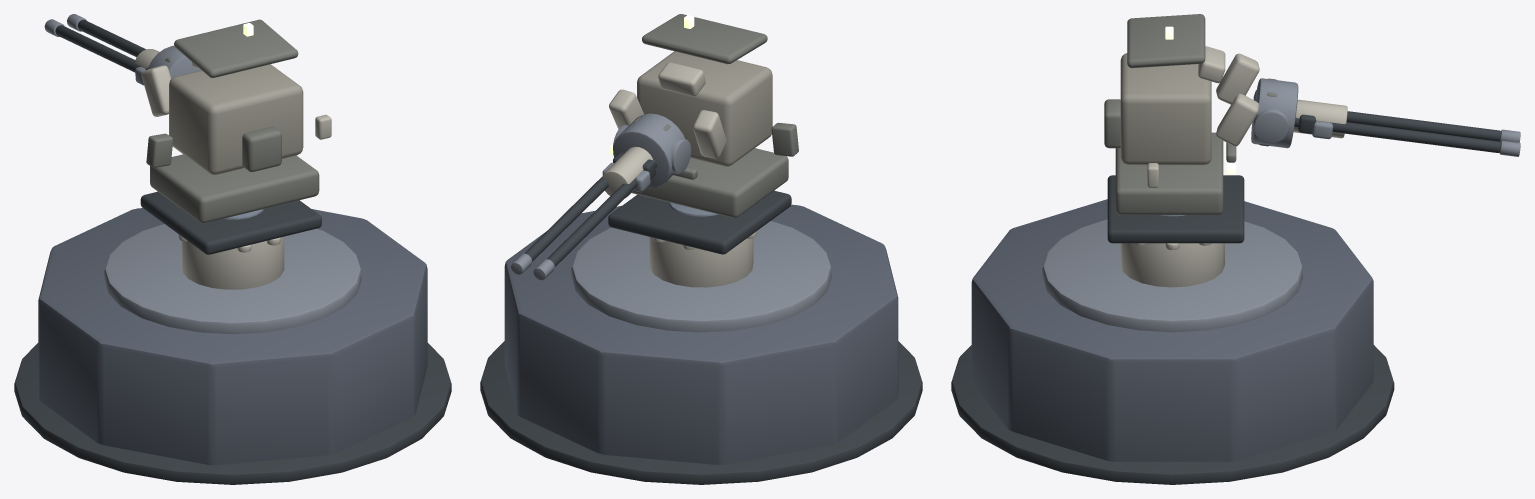
The model's file is mg7_lvl2.glb.
3 renders of one model, left to right at view 1: azimuth 30°, elevation 25°; view 2: azimuth 150°, elevation 25°; view 3: azimuth 270°, elevation 25°, orthographic.
Parts seen in each view (by area): view 1: pedestal_skirt, pedestal_ring, pedestal_lower_ring, hull_main, hull_lower, turret_deck, roof, pedestal_collar, rear_box, front_cheek_left, barrel_01, mantlet (+2 smaller); view 2: pedestal_skirt, pedestal_ring, pedestal_lower_ring, hull_main, turret_deck, hull_lower, pedestal_collar, roof, mantlet, barrel_01, barrel_02, recoil_sleeve (+5 smaller); view 3: pedestal_skirt, pedestal_ring, pedestal_lower_ring, hull_main, hull_lower, turret_deck, pedestal_collar, roof, barrel_02, barrel_01, mantlet, front_cheek_right (+5 smaller).
Boxes of the visible parts, x1,y1,x2,y2 form: pedestal_skirt: [38, 208, 427, 465]; pedestal_ring: [104, 224, 361, 334]; pedestal_lower_ring: [14, 343, 451, 484]; hull_main: [169, 64, 303, 174]; hull_lower: [150, 154, 319, 223]; turret_deck: [140, 191, 321, 254]; roof: [174, 19, 298, 77]; pedestal_collar: [181, 236, 284, 289]; rear_box: [242, 126, 281, 172]; front_cheek_left: [141, 65, 171, 116]; barrel_01: [55, 25, 145, 72]; mantlet: [147, 45, 201, 78]; pedestal_skirt: [504, 204, 898, 464]; pedestal_ring: [571, 221, 831, 332]; pedestal_lower_ring: [480, 341, 922, 484]; hull_main: [637, 51, 772, 166]; turret_deck: [608, 190, 791, 254]; hull_lower: [632, 148, 788, 217]; pedestal_collar: [649, 237, 753, 287]; roof: [642, 14, 767, 64]; mantlet: [613, 113, 684, 188]; barrel_01: [547, 159, 656, 266]; barrel_02: [524, 177, 608, 261]; recoil_sleeve: [602, 146, 653, 198]; pedestal_skirt: [971, 199, 1373, 461]; pedestal_ring: [1042, 219, 1302, 332]; pedestal_lower_ring: [951, 345, 1394, 484]; hull_main: [1120, 53, 1211, 165]; hull_lower: [1115, 132, 1223, 214]; turret_deck: [1107, 175, 1244, 243]; pedestal_collar: [1120, 243, 1224, 287]; roof: [1127, 14, 1205, 68]; barrel_02: [1294, 117, 1501, 152]; barrel_01: [1346, 111, 1501, 141]; mantlet: [1251, 78, 1298, 148]; front_cheek_right: [1216, 93, 1259, 146].
Size of the model in its own units: 1.36 by 1.27 by 1.75.
